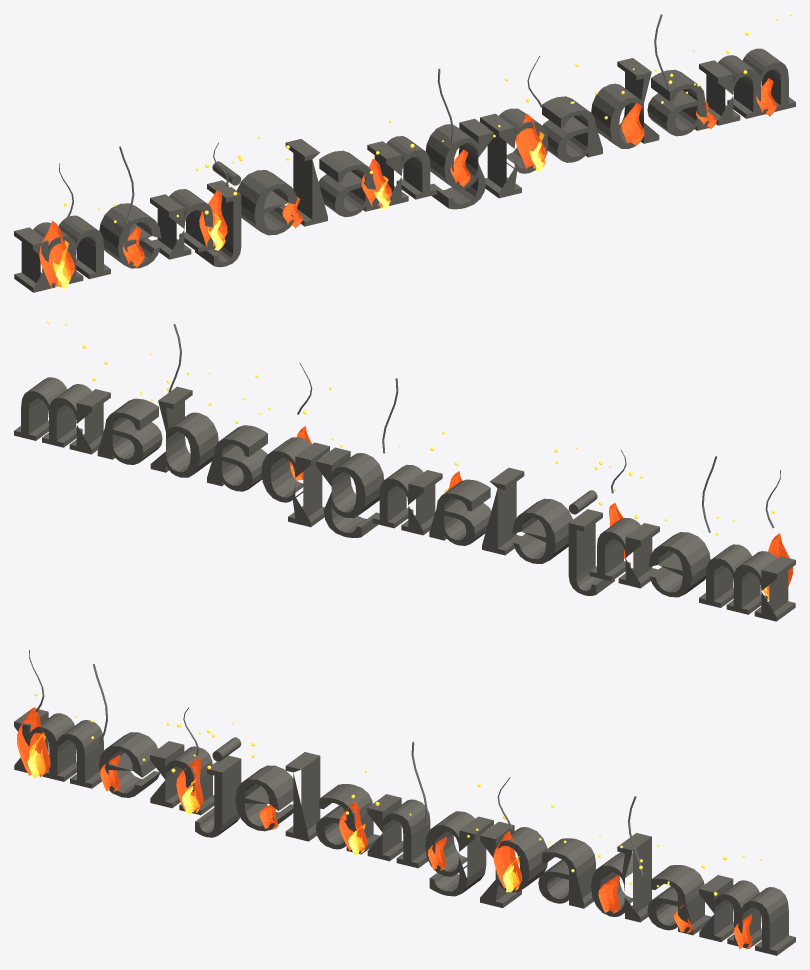
Rendered from wordmark.glb.
3 renders of one model, top to bottom at view 1: azimuth 30°, elevation 25°; view 2: azimuth 150°, elevation 25°; view 3: azimuth 330°, elevation 25°, orthographic.
Visible parts, largest first — view 1: charred_letter_part_03, charred_letter_part_04, charred_letter_part_00, charred_letter_part_02, charred_letter_part_10, charred_letter_part_01, charred_letter_part_06, charred_letter_part_05, charred_letter_part_07, charred_letter_part_11, charred_letter_part_09, charred_letter_part_08 (+8 smaller); view 2: charred_letter_part_04, charred_letter_part_03, charred_letter_part_00, charred_letter_part_01, charred_letter_part_02, charred_letter_part_11, charred_letter_part_10, charred_letter_part_06, charred_letter_part_07, charred_letter_part_05, charred_letter_part_08, charred_letter_part_09 (+2 smaller); view 3: charred_letter_part_03, charred_letter_part_04, charred_letter_part_00, charred_letter_part_11, charred_letter_part_02, charred_letter_part_05, charred_letter_part_06, charred_letter_part_01, charred_letter_part_10, charred_letter_part_09, charred_letter_part_08, charred_letter_part_07 (+7 smaller).
Boxes of the visible parts, x1,y1,x2,y2 form: charred_letter_part_03: (699,48,795,125); charred_letter_part_04: (14,215,110,292); charred_letter_part_00: (426,118,493,209); charred_letter_part_02: (591,58,659,148); charred_letter_part_10: (150,189,215,259); charred_letter_part_01: (480,108,548,198); charred_letter_part_06: (647,69,709,136); charred_letter_part_05: (542,96,602,162); charred_letter_part_07: (318,150,380,217); charred_letter_part_11: (367,136,437,205); charred_letter_part_09: (237,170,296,235); charred_letter_part_08: (99,203,161,268); charred_letter_part_04: (699,544,795,621); charred_letter_part_03: (14,377,110,454); charred_letter_part_00: (316,447,384,537); charred_letter_part_01: (261,437,329,527); charred_letter_part_02: (150,386,218,477); charred_letter_part_11: (372,464,442,535); charred_letter_part_10: (589,517,659,588); charred_letter_part_06: (97,398,162,464); charred_letter_part_07: (429,479,491,545); charred_letter_part_05: (207,425,267,491); charred_letter_part_08: (648,532,710,597); charred_letter_part_09: (512,498,572,563); charred_letter_part_03: (699,875,795,955); charred_letter_part_04: (14,708,103,788); charred_letter_part_00: (425,811,493,896); charred_letter_part_11: (367,794,430,868); charred_letter_part_02: (591,833,651,922); charred_letter_part_05: (538,838,595,908); charred_letter_part_06: (647,865,711,935); charred_letter_part_01: (480,821,547,907); charred_letter_part_10: (150,741,214,815); charred_letter_part_09: (235,765,293,831); charred_letter_part_08: (99,732,159,797); charred_letter_part_07: (316,784,379,854).
Bounding box in the file's own units: 7.4 × 1.38 × 0.4704.
